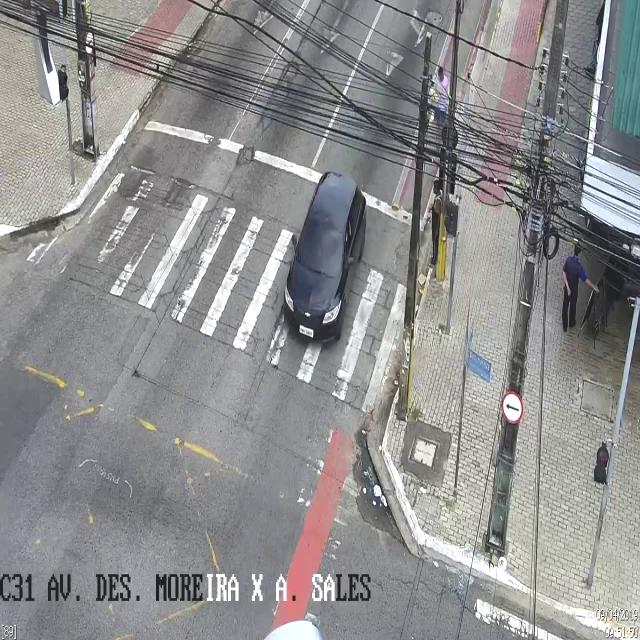Car: (283, 172, 366, 346)
